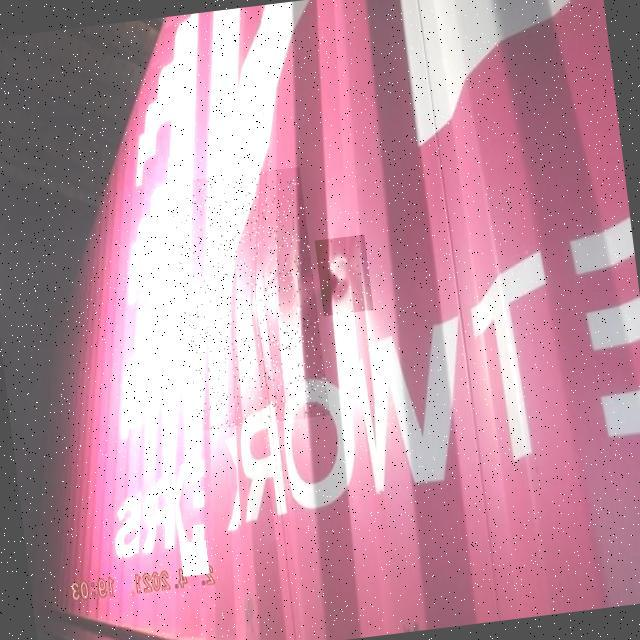Dent: (169, 167, 330, 431)
Minor-Dent: (314, 234, 373, 316)
